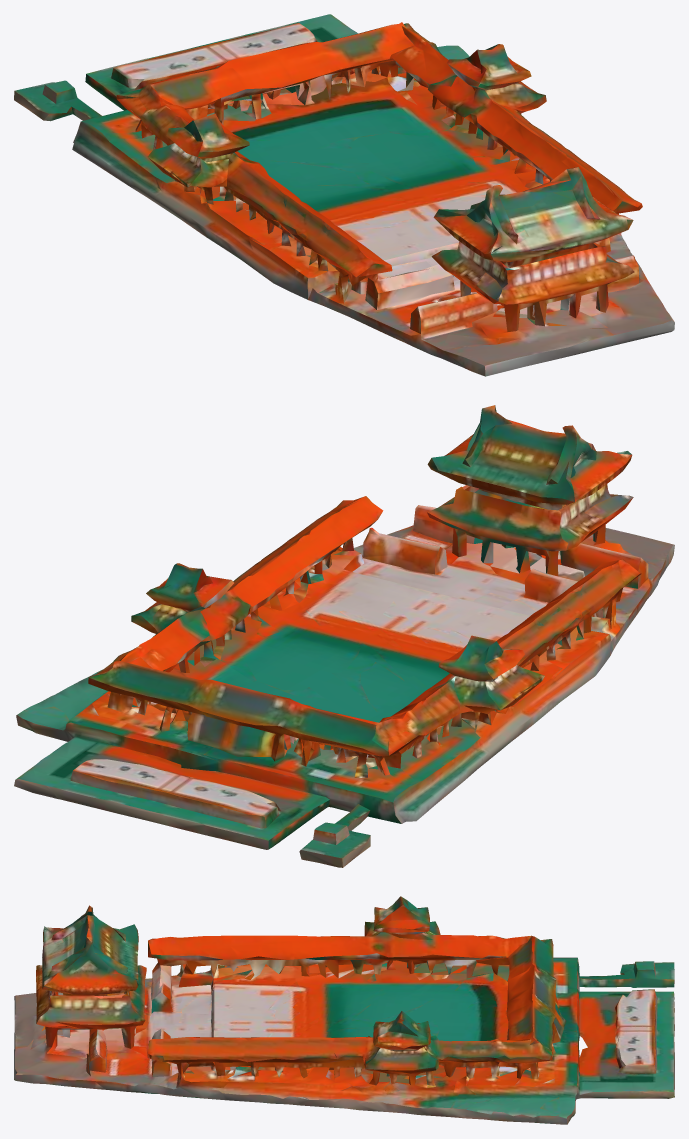
Rendered from heian-shrine.glb.
3 renders of one model, top to bottom at view 1: azimuth 30°, elevation 25°; view 2: azimuth 150°, elevation 25°; view 3: azimuth 270°, elevation 25°, orthographic. The views are drawn at different scales.
Visible parts, largest first — view 1: logan-textured.obj; view 2: logan-textured.obj; view 3: logan-textured.obj.
Boxes of the visible parts, bbox=[...] form: logan-textured.obj: bbox=[14, 14, 674, 376]; logan-textured.obj: bbox=[14, 405, 674, 867]; logan-textured.obj: bbox=[14, 896, 674, 1124].
Bounding box in the file's own units: 0.5692 × 0.2029 × 1.
1 material, 1 textured.
